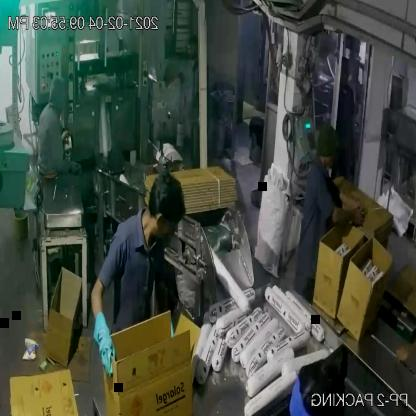glove: (94, 305, 118, 384)
no_glove: (329, 195, 366, 233)
